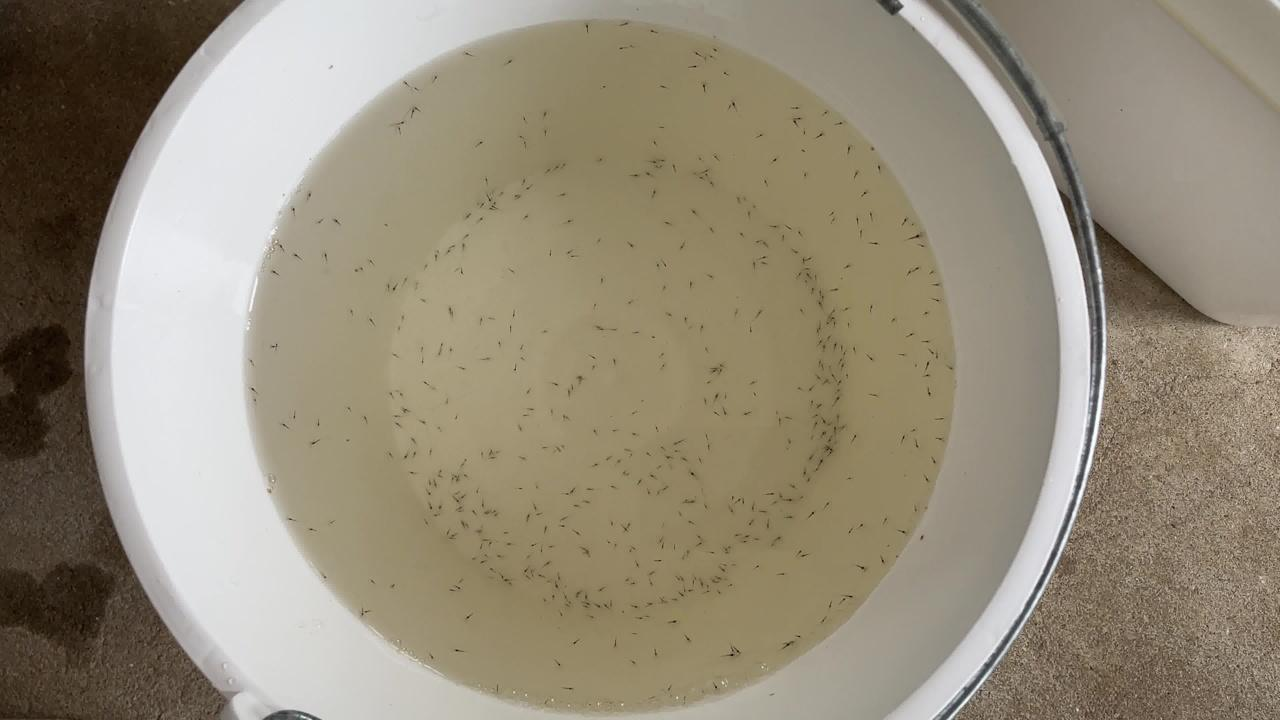shrimp: (725, 656, 737, 664), (726, 647, 738, 655), (732, 650, 744, 658), (680, 634, 692, 642), (669, 618, 681, 626), (643, 615, 655, 623), (635, 615, 647, 623), (629, 605, 641, 613), (643, 602, 655, 610), (657, 596, 669, 604), (669, 598, 681, 606), (677, 592, 689, 600), (677, 586, 689, 594), (686, 587, 698, 595), (676, 575, 688, 583), (671, 574, 683, 582), (704, 591, 716, 599), (704, 587, 716, 595), (700, 582, 712, 590), (688, 573, 700, 581), (689, 580, 701, 588), (724, 584, 736, 592), (712, 581, 724, 589), (714, 577, 726, 585), (715, 569, 727, 577), (718, 561, 730, 569), (729, 564, 741, 572), (721, 548, 733, 556), (723, 544, 735, 552), (709, 549, 721, 557), (694, 542, 706, 550), (695, 536, 707, 544), (685, 551, 697, 559), (679, 556, 691, 564), (669, 544, 681, 552), (658, 544, 670, 552), (656, 538, 668, 546), (655, 557, 667, 565), (648, 570, 660, 578), (648, 581, 660, 589), (628, 582, 640, 590), (624, 577, 636, 585), (632, 564, 644, 572), (630, 546, 642, 554), (624, 549, 636, 557), (619, 525, 631, 533), (624, 523, 636, 531), (613, 544, 625, 552), (605, 541, 617, 549), (609, 521, 621, 529), (597, 587, 609, 595), (606, 598, 618, 606), (605, 603, 617, 611), (631, 630, 643, 638), (652, 649, 664, 657), (630, 658, 642, 666), (613, 640, 625, 648), (595, 605, 607, 613), (587, 615, 599, 623), (580, 606, 592, 614), (582, 602, 594, 610), (582, 596, 594, 604), (573, 590, 585, 598), (566, 598, 578, 606), (565, 601, 577, 609), (558, 613, 570, 621), (561, 593, 573, 601), (550, 594, 562, 602), (542, 597, 554, 605), (553, 574, 565, 582), (551, 583, 563, 591), (537, 571, 549, 579), (543, 560, 555, 568), (529, 571, 541, 579), (524, 567, 536, 575), (526, 574, 538, 582), (507, 583, 519, 591), (504, 579, 516, 587), (499, 575, 511, 583), (487, 568, 499, 576), (478, 559, 490, 567), (471, 556, 483, 564), (483, 553, 495, 561), (495, 553, 507, 561), (504, 542, 516, 550), (501, 529, 513, 537), (487, 542, 499, 550), (483, 536, 495, 544), (476, 545, 488, 553), (475, 526, 487, 534), (465, 522, 477, 530), (459, 523, 471, 531), (452, 530, 464, 538), (450, 535, 462, 543), (444, 527, 456, 535), (421, 522, 433, 530), (427, 514, 439, 522), (435, 504, 447, 512), (426, 504, 438, 512), (422, 490, 434, 498), (429, 483, 441, 491), (426, 480, 438, 488), (436, 473, 448, 481), (435, 468, 447, 476), (492, 513, 504, 521), (491, 510, 503, 518), (484, 509, 496, 517), (468, 510, 480, 518), (476, 500, 488, 508), (474, 486, 486, 494), (461, 493, 473, 501), (453, 500, 465, 508), (452, 490, 464, 498), (457, 508, 469, 516), (461, 474, 473, 482), (459, 461, 471, 469), (457, 474, 469, 482), (450, 477, 462, 485), (547, 543, 559, 551), (537, 547, 549, 555), (531, 541, 543, 549), (524, 556, 536, 564), (583, 549, 595, 557), (573, 531, 585, 539), (557, 524, 569, 532), (558, 517, 570, 525), (542, 527, 554, 535), (537, 512, 549, 520), (532, 505, 544, 513), (523, 517, 535, 525), (533, 481, 545, 489), (515, 485, 527, 493), (488, 455, 500, 463), (494, 449, 506, 457), (491, 449, 503, 457), (487, 448, 499, 456), (479, 451, 491, 459), (517, 456, 529, 464), (564, 491, 576, 499), (570, 487, 582, 495), (586, 486, 598, 494), (582, 495, 594, 503), (573, 504, 585, 512), (609, 484, 621, 492), (592, 461, 604, 469), (555, 448, 567, 456), (551, 450, 563, 458), (560, 443, 572, 451), (543, 446, 555, 454), (517, 425, 529, 433), (519, 414, 531, 422), (523, 407, 535, 415), (544, 408, 556, 416), (558, 416, 570, 424), (564, 417, 576, 425), (562, 391, 574, 399), (565, 389, 577, 397), (575, 381, 587, 389), (576, 375, 588, 383), (549, 381, 561, 389), (523, 388, 535, 396), (610, 358, 622, 366), (587, 364, 599, 372), (589, 356, 601, 364), (509, 365, 521, 373), (517, 358, 529, 366), (517, 344, 529, 352), (542, 328, 554, 336), (509, 310, 521, 318), (506, 326, 518, 334), (497, 341, 509, 349), (480, 355, 492, 363), (458, 364, 470, 372), (770, 543, 782, 551), (777, 533, 789, 541), (754, 536, 766, 544), (743, 532, 755, 540), (743, 539, 755, 547), (735, 532, 747, 540), (747, 521, 759, 529), (765, 522, 777, 530), (760, 509, 772, 517), (750, 504, 762, 512), (741, 498, 753, 506), (735, 499, 747, 507), (731, 495, 743, 503), (726, 505, 738, 513), (787, 515, 799, 523), (805, 513, 817, 521), (823, 502, 835, 510), (798, 494, 810, 502), (785, 498, 797, 506), (780, 494, 792, 502), (767, 490, 779, 498), (773, 501, 785, 509), (788, 481, 800, 489), (804, 479, 816, 487), (800, 470, 812, 478), (814, 463, 826, 471), (807, 454, 819, 462), (829, 451, 841, 459), (822, 447, 834, 455), (824, 439, 836, 447), (827, 433, 839, 441), (847, 438, 859, 446), (838, 425, 850, 433), (832, 415, 844, 423), (820, 431, 832, 439), (819, 417, 831, 425), (811, 424, 823, 432), (809, 415, 821, 423), (815, 404, 827, 412), (807, 401, 819, 409), (807, 386, 819, 394), (798, 387, 810, 395), (833, 398, 845, 406), (835, 390, 847, 398), (835, 382, 847, 390), (843, 375, 855, 383), (832, 375, 844, 383), (822, 379, 834, 387), (813, 375, 825, 383), (820, 366, 832, 374), (815, 362, 827, 370), (839, 365, 851, 373), (836, 361, 848, 369), (851, 345, 863, 353), (841, 353, 853, 361), (839, 345, 851, 353), (831, 341, 843, 349), (823, 346, 835, 354), (815, 342, 827, 350), (824, 336, 836, 344), (867, 355, 879, 363), (844, 322, 856, 330), (832, 324, 844, 332), (843, 309, 855, 317), (830, 318, 842, 326), (828, 312, 840, 320), (815, 328, 827, 336), (799, 309, 811, 317), (867, 391, 879, 399), (868, 307, 880, 315), (816, 303, 828, 311), (828, 287, 840, 295), (818, 297, 830, 305), (815, 288, 827, 296), (809, 288, 821, 296), (812, 276, 824, 284), (801, 282, 813, 290), (806, 274, 818, 282), (796, 274, 808, 282), (804, 264, 816, 272), (807, 256, 819, 264), (800, 259, 812, 267), (789, 250, 801, 258), (795, 231, 807, 239), (786, 224, 798, 232), (778, 237, 790, 245), (764, 261, 776, 269), (759, 254, 771, 262), (750, 261, 762, 269), (763, 242, 775, 250), (757, 238, 769, 246), (770, 222, 782, 230), (745, 209, 757, 217), (737, 232, 749, 240), (733, 200, 745, 208), (737, 193, 749, 201), (685, 521, 697, 529), (697, 505, 709, 513), (690, 498, 702, 506), (677, 512, 689, 520), (659, 485, 671, 493), (654, 489, 666, 497), (644, 490, 656, 498), (634, 480, 646, 488), (649, 473, 661, 481), (625, 473, 637, 481), (620, 471, 632, 479), (613, 460, 625, 468), (603, 456, 615, 464), (626, 456, 638, 464), (624, 448, 636, 456), (628, 430, 640, 438), (612, 425, 624, 433), (593, 427, 605, 435), (686, 471, 698, 479), (694, 457, 706, 465), (703, 444, 715, 452), (700, 432, 712, 440), (683, 457, 695, 465), (665, 452, 677, 460), (653, 466, 665, 474), (640, 452, 652, 460), (659, 445, 671, 453), (675, 438, 687, 446), (675, 448, 687, 456), (650, 427, 662, 435), (626, 412, 638, 420), (660, 361, 672, 369), (657, 352, 669, 360), (722, 407, 734, 415), (712, 411, 724, 419), (698, 398, 710, 406), (707, 394, 719, 402), (716, 394, 728, 402), (746, 381, 758, 389), (749, 391, 761, 399), (743, 411, 755, 419), (777, 419, 789, 427), (783, 416, 795, 424), (786, 440, 798, 448), (704, 381, 716, 389), (707, 372, 719, 380), (718, 366, 730, 374), (720, 362, 732, 370), (745, 327, 757, 335), (752, 311, 764, 319), (731, 309, 743, 317), (701, 350, 713, 358), (699, 326, 711, 334), (681, 317, 693, 325), (667, 313, 679, 321), (649, 334, 661, 342), (631, 330, 643, 338), (611, 328, 623, 336), (594, 325, 606, 333), (624, 298, 636, 306), (588, 303, 600, 311), (597, 280, 609, 288), (658, 286, 670, 294), (687, 280, 699, 288), (706, 273, 718, 281), (708, 230, 720, 238), (691, 207, 703, 215), (663, 221, 675, 229), (680, 244, 692, 252), (663, 263, 675, 271), (655, 263, 667, 271), (625, 243, 637, 251), (598, 236, 610, 244), (565, 248, 577, 256), (576, 256, 588, 264), (546, 247, 558, 255), (508, 270, 520, 278), (490, 315, 502, 323), (476, 319, 488, 327), (447, 306, 459, 314), (447, 349, 459, 357), (435, 349, 447, 357), (415, 360, 427, 368), (418, 345, 430, 353), (422, 381, 434, 389), (430, 386, 442, 394), (440, 400, 452, 408), (449, 415, 461, 423), (407, 471, 419, 479), (425, 450, 437, 458), (436, 426, 448, 434), (417, 417, 429, 425), (411, 437, 423, 445), (410, 454, 422, 462), (402, 454, 414, 462), (389, 453, 401, 461), (394, 424, 406, 432), (390, 414, 402, 422), (401, 408, 413, 416), (396, 390, 408, 398), (386, 391, 398, 399), (361, 417, 373, 425), (342, 404, 354, 412), (344, 435, 356, 443), (308, 440, 320, 448), (314, 422, 326, 430), (288, 411, 300, 419), (281, 422, 293, 430), (247, 389, 259, 397), (248, 360, 260, 368), (271, 344, 283, 352), (368, 317, 380, 325), (393, 355, 405, 363), (394, 326, 406, 334), (398, 315, 410, 323), (419, 298, 431, 306), (410, 283, 422, 291), (400, 278, 412, 286), (391, 284, 403, 292), (383, 285, 395, 293), (344, 311, 356, 319), (368, 259, 380, 267), (359, 263, 371, 271), (349, 267, 361, 275), (322, 254, 334, 262), (332, 220, 344, 228), (318, 220, 330, 228), (308, 192, 320, 200), (290, 205, 302, 213), (290, 254, 302, 262), (277, 246, 289, 254), (268, 272, 280, 280), (285, 516, 297, 524), (305, 526, 317, 534), (324, 517, 336, 525), (355, 610, 367, 618), (361, 607, 373, 615), (319, 572, 331, 580), (366, 575, 378, 583), (386, 580, 398, 588), (446, 590, 458, 598), (450, 585, 462, 593), (453, 578, 465, 586), (466, 611, 478, 619), (457, 645, 469, 653), (429, 653, 441, 661), (493, 682, 505, 690), (563, 684, 575, 692), (551, 660, 563, 668), (565, 638, 577, 646), (648, 695, 660, 703), (663, 682, 675, 690), (680, 697, 692, 705), (713, 683, 725, 691), (783, 644, 795, 652), (785, 638, 797, 646), (795, 633, 807, 641), (819, 616, 831, 624), (823, 603, 835, 611), (834, 599, 846, 607), (846, 593, 858, 601), (802, 552, 814, 560), (793, 549, 805, 557), (777, 572, 789, 580), (753, 564, 765, 572), (857, 562, 869, 570), (877, 558, 889, 566), (857, 522, 869, 530), (844, 525, 856, 533), (881, 516, 893, 524), (896, 530, 908, 538), (882, 541, 894, 549), (910, 505, 922, 513), (920, 478, 932, 486), (927, 456, 939, 464), (912, 443, 924, 451), (910, 428, 922, 436), (895, 438, 907, 446), (933, 436, 945, 444), (935, 416, 947, 424), (922, 388, 934, 396), (925, 373, 937, 381), (923, 362, 935, 370), (945, 366, 957, 374), (935, 353, 947, 361), (926, 348, 938, 356), (922, 337, 934, 345), (908, 332, 920, 340), (896, 348, 908, 356), (884, 316, 896, 324), (923, 309, 935, 317), (933, 295, 945, 303), (932, 283, 944, 291), (927, 270, 939, 278), (911, 264, 923, 272), (903, 269, 915, 277), (918, 241, 930, 249), (911, 232, 923, 240), (900, 216, 912, 224), (870, 240, 882, 248), (842, 264, 854, 272), (856, 228, 868, 236), (866, 212, 878, 220), (855, 217, 867, 225), (830, 217, 842, 225), (829, 211, 841, 219), (858, 192, 870, 200), (851, 170, 863, 178), (872, 163, 884, 171), (843, 145, 855, 153), (800, 173, 812, 181), (815, 132, 827, 140), (833, 120, 845, 128), (822, 107, 834, 115), (790, 104, 802, 112), (794, 116, 806, 124), (791, 121, 803, 129), (800, 129, 812, 137), (798, 148, 810, 156), (770, 156, 782, 164), (762, 181, 774, 189), (757, 132, 769, 140), (730, 100, 742, 108), (726, 105, 738, 113), (707, 182, 719, 190), (713, 156, 725, 164), (696, 153, 708, 161), (700, 167, 712, 175), (698, 178, 710, 186), (649, 195, 661, 203), (670, 165, 682, 173), (647, 172, 659, 180), (627, 171, 639, 179), (657, 165, 669, 173), (652, 165, 664, 173), (658, 159, 670, 167), (646, 159, 658, 167), (650, 143, 662, 151), (656, 125, 668, 133), (597, 157, 609, 165), (564, 222, 576, 230), (558, 194, 570, 202), (522, 216, 534, 224), (512, 191, 524, 199), (527, 186, 539, 194), (519, 179, 531, 187), (542, 169, 554, 177), (550, 166, 562, 174), (557, 159, 569, 167), (457, 270, 469, 278), (452, 269, 464, 277), (419, 265, 431, 273), (429, 258, 441, 266), (432, 249, 444, 257), (442, 248, 454, 256), (448, 242, 460, 250), (460, 244, 472, 252), (464, 232, 476, 240), (475, 216, 487, 224), (464, 212, 476, 220), (485, 205, 497, 213), (489, 205, 501, 213), (491, 201, 503, 209), (477, 205, 489, 213), (484, 196, 496, 204), (496, 191, 508, 199), (480, 177, 492, 185), (523, 143, 535, 151), (541, 129, 553, 137), (542, 109, 554, 117), (523, 114, 535, 122), (516, 134, 528, 142), (476, 141, 488, 149), (396, 129, 408, 137), (394, 121, 406, 129), (406, 111, 418, 119), (413, 107, 425, 115), (414, 87, 426, 95), (402, 82, 414, 90), (429, 78, 441, 86), (468, 50, 480, 58), (501, 58, 513, 66), (584, 26, 596, 34), (620, 21, 632, 29), (649, 26, 661, 34), (620, 45, 632, 53), (628, 41, 640, 49), (712, 45, 724, 53), (708, 52, 720, 60), (724, 72, 736, 80), (697, 84, 709, 92), (689, 65, 701, 73), (694, 49, 706, 57), (658, 83, 670, 91), (380, 223, 392, 231), (847, 475, 859, 483)
